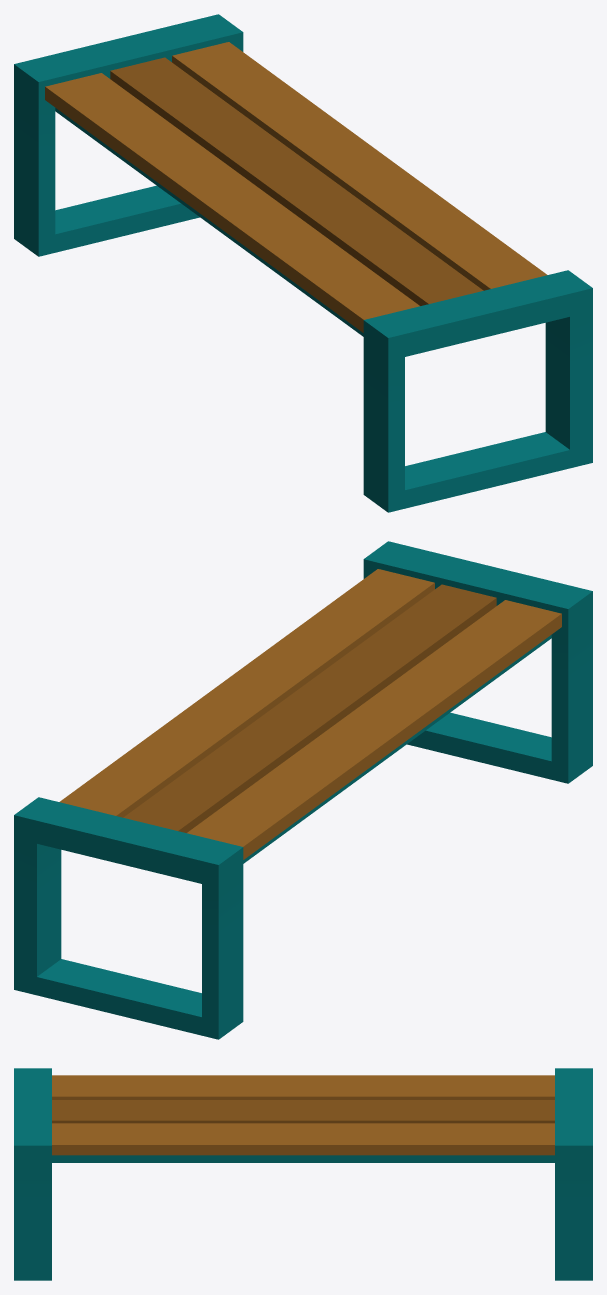
The model's file is Bench_4_B.fbx.
3 views of the same model, one above another, from view 1: azimuth 30°, elevation 25°; view 2: azimuth 150°, elevation 25°; view 3: azimuth 270°, elevation 25° (orthographic). The views are drawn at different scales.
Visible parts, largest first — view 1: Bench_4_B; view 2: Bench_4_B; view 3: Bench_4_B.
Part boxes in pixels (<box>): Bench_4_B: <box>14,14,592,512</box>; Bench_4_B: <box>14,541,592,1039</box>; Bench_4_B: <box>14,1068,592,1280</box>.
Size of the model in its own units: 61.18 by 49.88 by 194.
